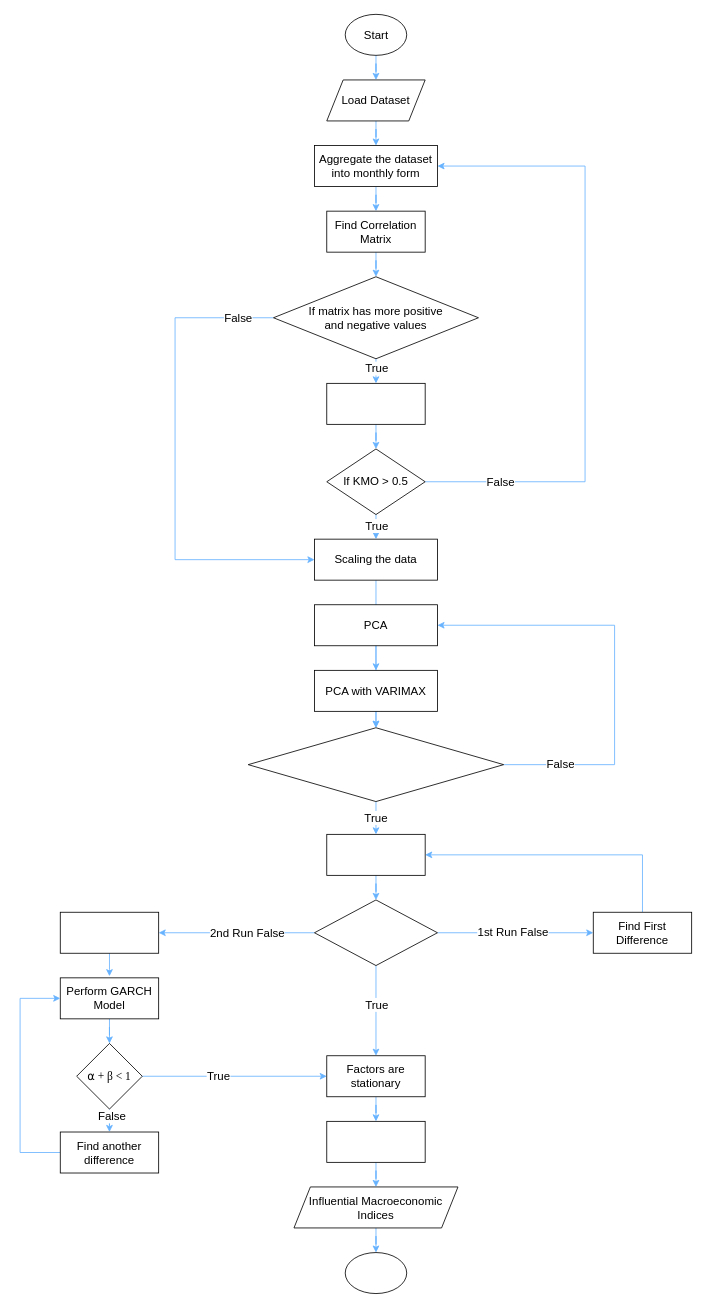
The diagram is 706 pixels wide and 1308 high, and some of its shapes have lost their labels. Here are the shapes that lost their labels. From the top down, the centre of each, then its label:
At pixel 375 403: "Perform Bartlett test and KMO test".
At pixel 375 764: "If row.isnull.sum(axis=1) = = (factors -1)".
At pixel 375 854: "Perform ADF test".
At pixel 109 932: "Find Second Difference".
At pixel 375 932: "If P value < 0.05".
At pixel 375 1141: "Perform Regression".
At pixel 375 1273: "Stop".
